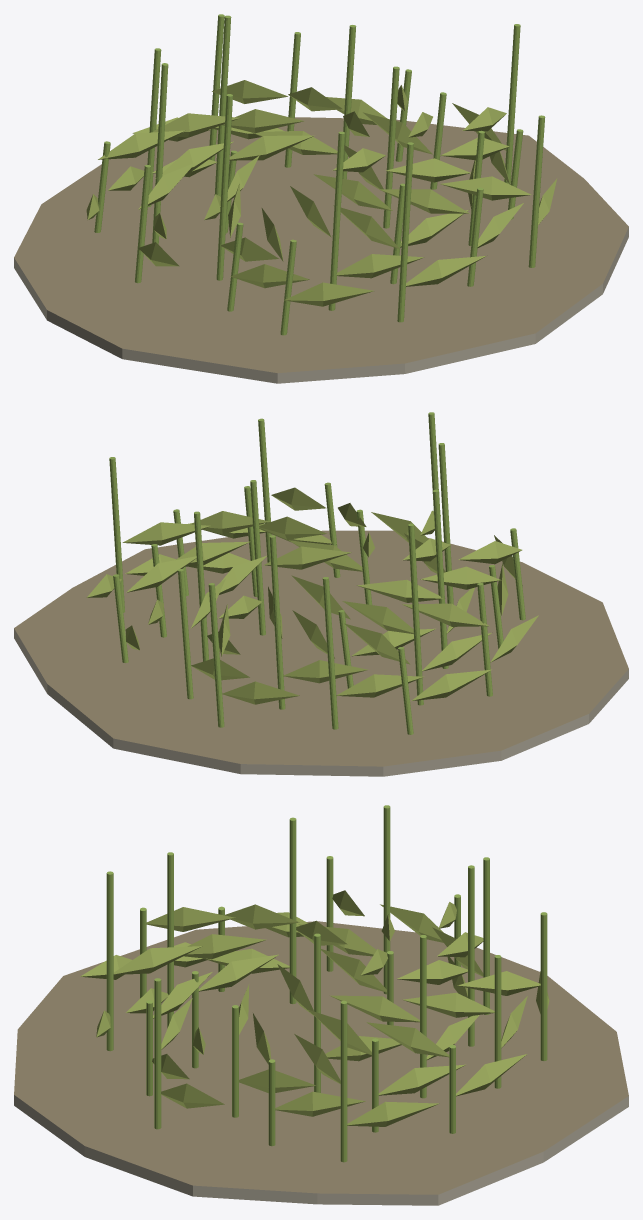
Rendered from Reed_Bed_Sprouting.glb.
The picture shows the model from 3 angles, top to bottom: view 1: azimuth 30°, elevation 25°; view 2: azimuth 150°, elevation 25°; view 3: azimuth 270°, elevation 25°; orthographic projection. The views are drawn at different scales.
Visible parts, largest first — view 1: Support, Growth; view 2: Support, Growth; view 3: Support, Growth.
Boxes of the visible parts, x1,y1,x2,y2 form: Support: [14, 117, 628, 383]; Growth: [86, 14, 557, 335]; Support: [14, 530, 628, 776]; Growth: [86, 412, 538, 734]; Support: [14, 921, 628, 1205]; Growth: [80, 805, 549, 1162].
Bounding box in the file's own units: 2.68 × 0.9223 × 2.54.
